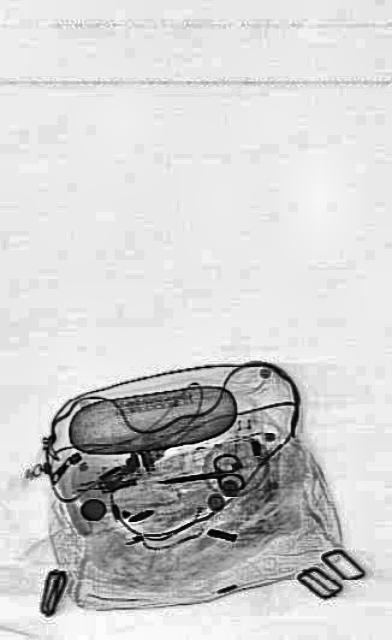Scissors: (154, 448, 244, 500)
